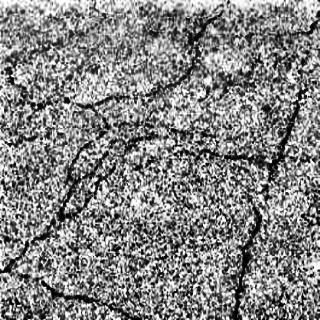alligator-crack: (6, 22, 298, 302)
